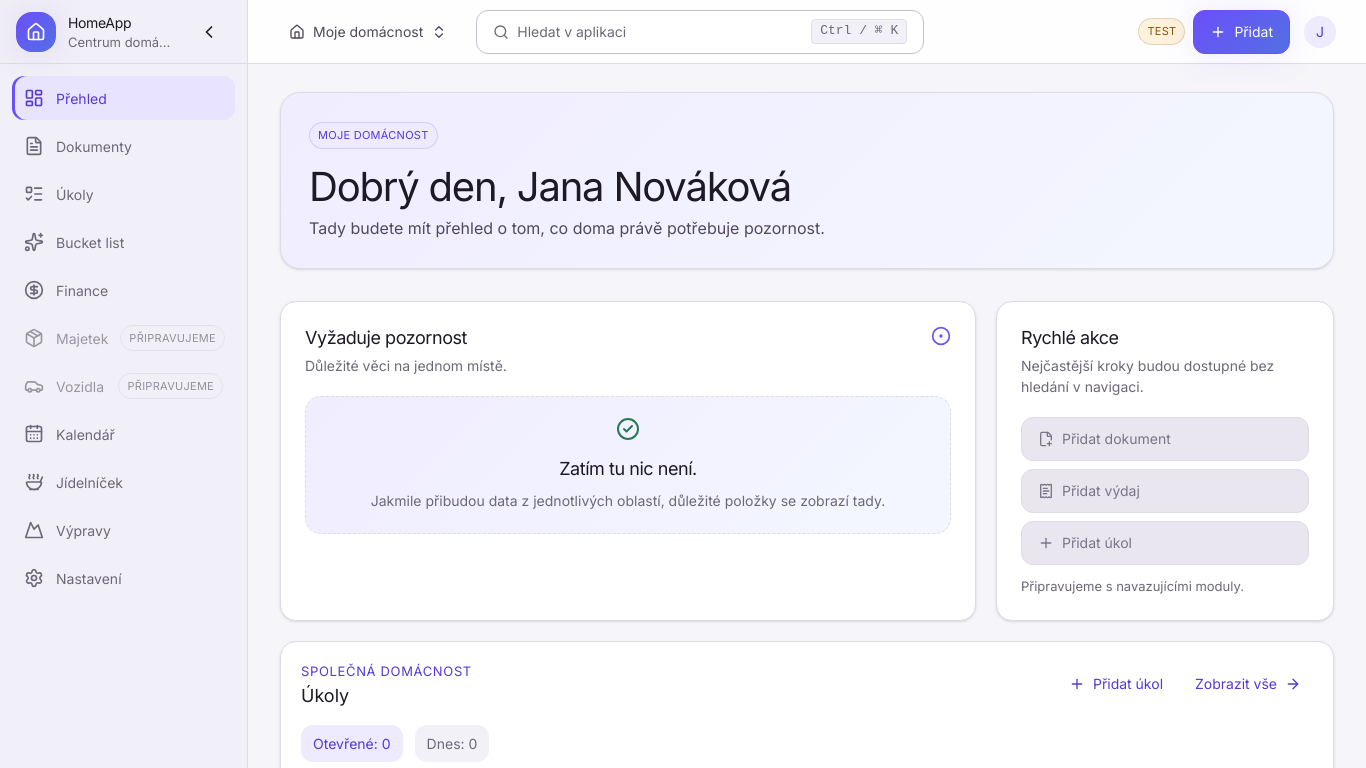
Test case: authentication UI › sends the CSRF header on logout and redirects to login
Click the button named "Uživatelské menu: Jana Nováková". click: (1320, 32)
box: [1298, 10, 1342, 54]
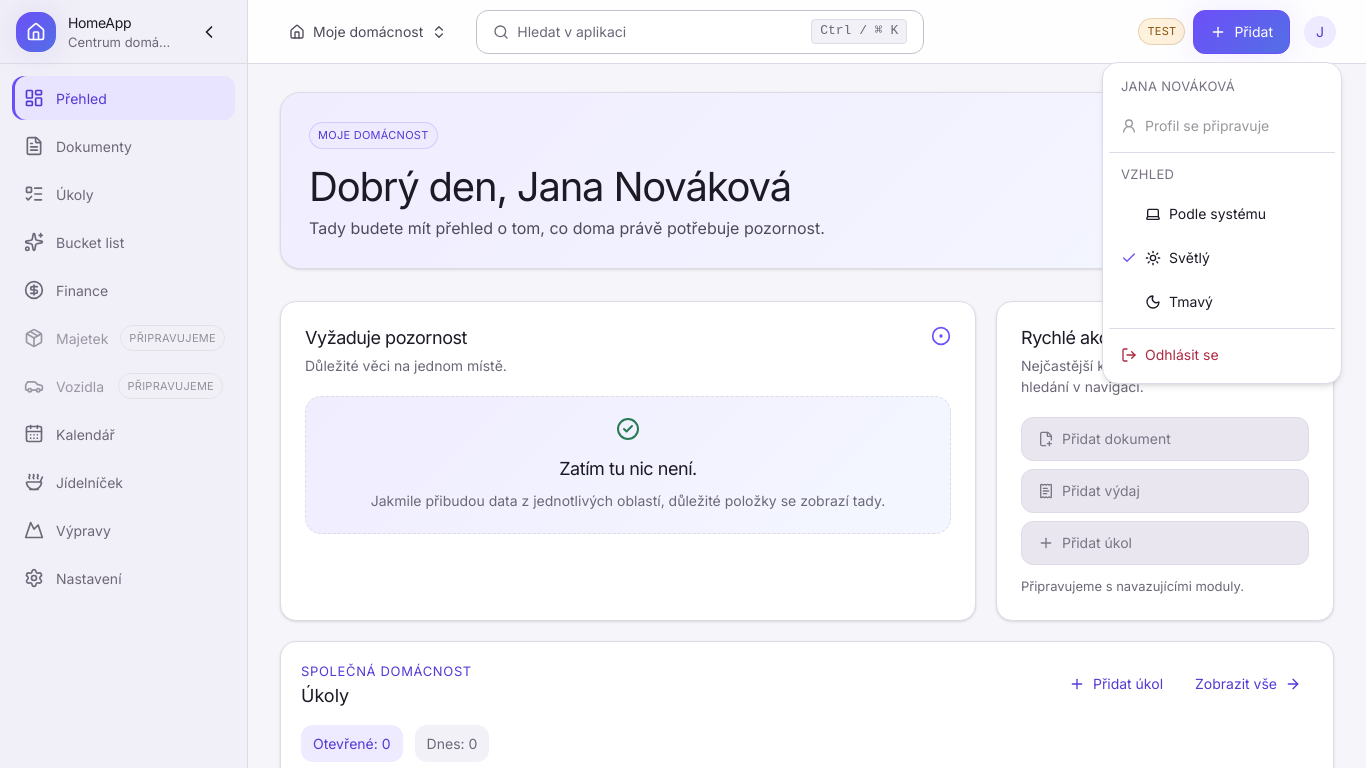
Click the menu item "Odhlásit se". click: (1170, 355)
box: [1121, 346, 1219, 363]
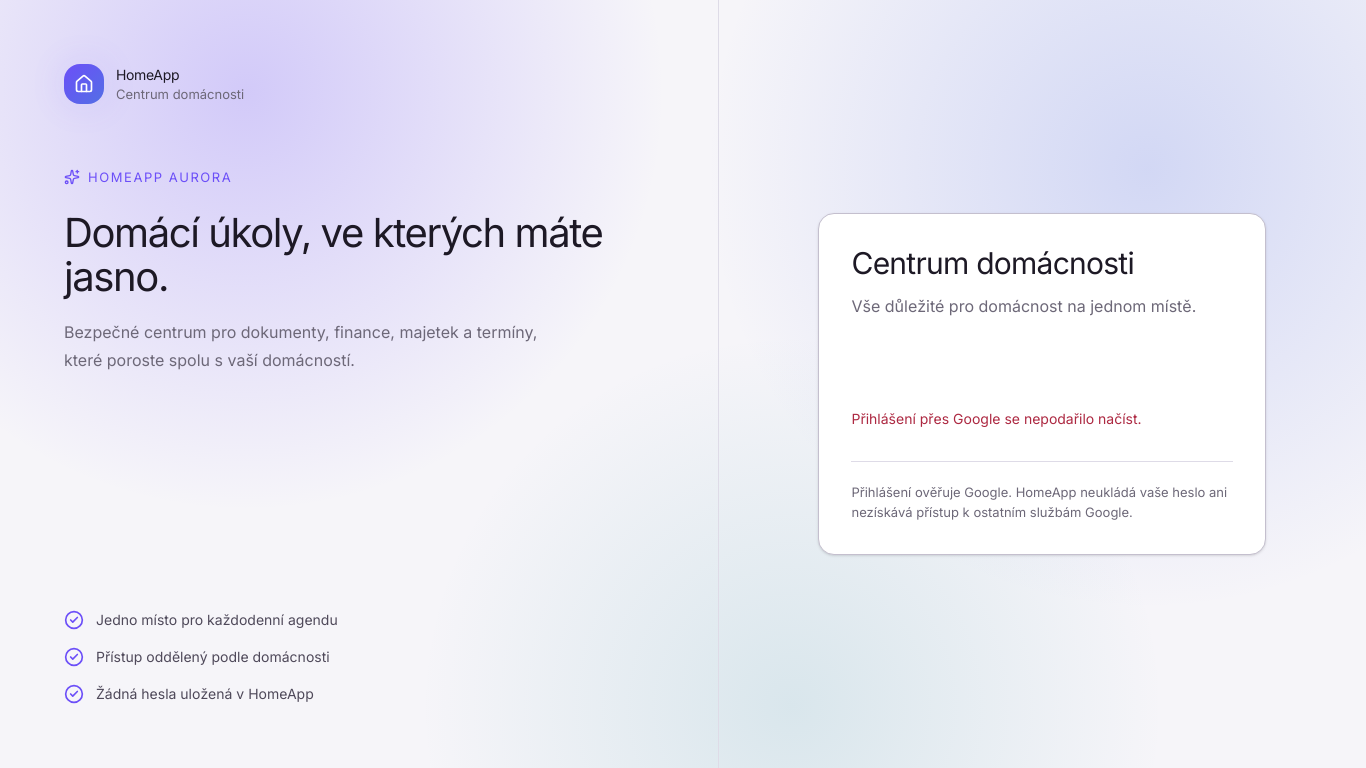
expect the heading "Centrum domácnosti" is shown: met, box [852, 245, 1134, 281]
